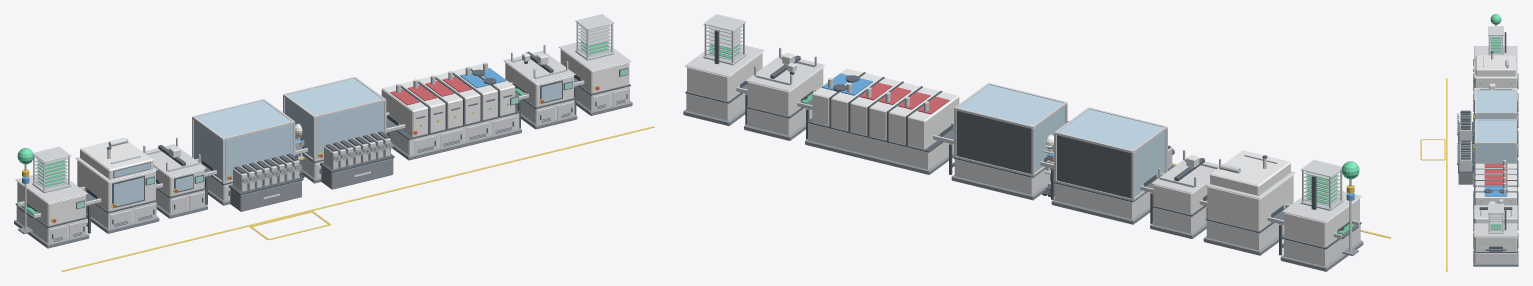
File: smt_line.glb
3 renders of one model, left to right at view 1: azimuth 30°, elevation 25°; view 2: azimuth 150°, elevation 25°; view 3: azimuth 270°, elevation 25°, orthographic. The views are drawn at different scales.
Parts seen in each view (by area): view 1: Static_body2, Static_glass, Static_panel, Static_steel, Static_dark, Static_base, Static_body, Static_yellow, Static_metal, Static_red, Static_board, Static_blue; view 2: Static_body2, Static_body, Static_dark, Static_glass, Static_steel, Static_panel, Static_base, Static_metal, Static_red, Static_board, Static_blue, Static_conv; view 3: Static_body2, Static_glass, Static_steel, Static_dark, Static_panel, Static_base, Static_body, Static_yellow, Static_metal, Static_red, Static_board, Static_blue (+1 smaller).
Boxes of the visible parts, x1,y1,x2,y2 form: Static_body2: (17,49,629,226); Static_glass: (113,78,561,206); Static_panel: (15,42,630,243); Static_steel: (17,14,614,229); Static_dark: (15,51,630,241); Static_base: (14,100,632,248); Static_body: (16,53,629,243); Static_yellow: (51,85,654,271); Static_metal: (32,24,614,193); Static_red: (52,76,599,222); Static_board: (37,41,608,186); Static_blue: (22,68,506,183); Static_body2: (687,52,1359,247); Static_body: (686,52,1360,266); Static_dark: (685,30,1361,255); Static_glass: (958,84,1165,196); Static_steel: (703,14,1359,251); Static_panel: (685,45,1361,222); Static_base: (683,109,1363,271); Static_metal: (703,25,1343,210); Static_red: (860,82,949,114); Static_board: (709,44,1337,204); Static_blue: (821,73,1354,200); Static_conv: (738,84,1358,239); Static_body2: (1475,55,1516,251); Static_glass: (1475,58,1515,163); Static_steel: (1459,25,1516,250); Static_dark: (1458,32,1517,259); Static_panel: (1474,46,1517,262); Static_base: (1458,73,1518,266); Static_body: (1474,78,1517,263); Static_yellow: (1420,60,1474,271); Static_metal: (1483,36,1503,233); Static_red: (1473,59,1507,238); Static_board: (1490,37,1501,229); Static_blue: (1484,186,1507,196).
Bounding box in the file's own units: 18.41 × 2.82 × 3.9.
